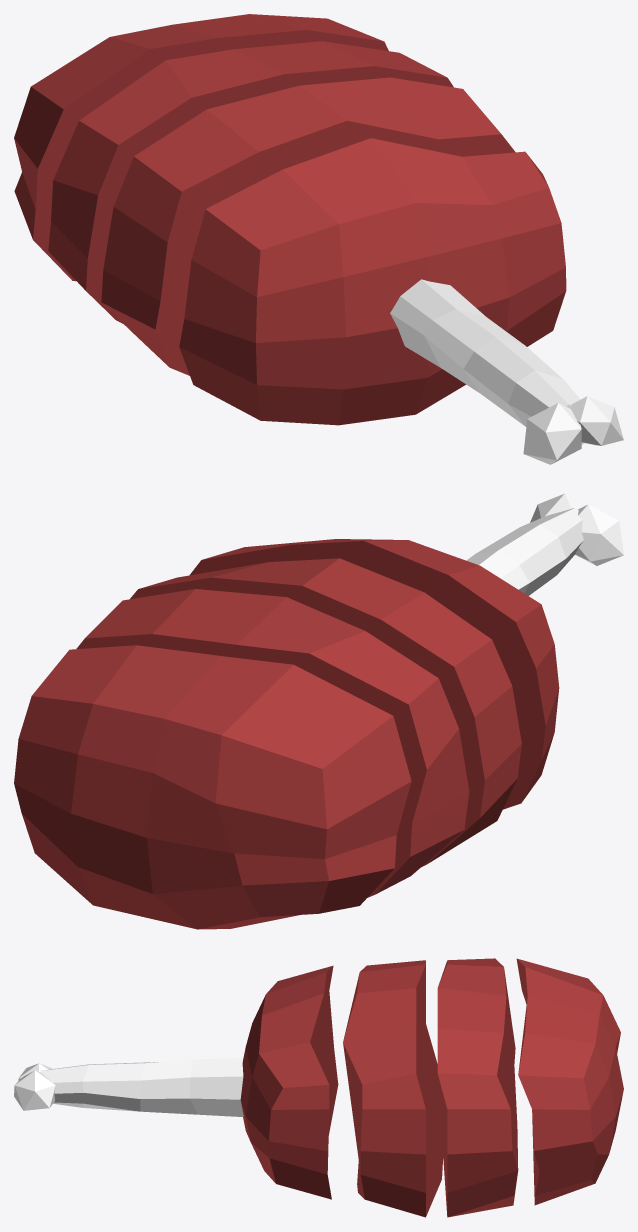
Rendered from goat_leg_chop_3.glb.
3 renders of one model, top to bottom at view 1: azimuth 30°, elevation 25°; view 2: azimuth 150°, elevation 25°; view 3: azimuth 270°, elevation 25°, orthographic. The views are drawn at different scales.
Parts seen in each view (by area): view 1: Meat, Meat.003, Meat.002, Meat.001, Icosphere; view 2: Meat.001, Meat.002, Meat.003, Meat, Icosphere; view 3: Meat.003, Meat.001, Meat.002, Meat, Icosphere.
Boxes of the visible parts, x1,y1,x2,y2 form: Meat: (179, 138, 566, 425); Meat.003: (101, 77, 515, 375); Meat.002: (48, 41, 453, 323); Meat.001: (14, 14, 388, 281); Icosphere: (390, 279, 623, 464); Meat.001: (14, 645, 411, 929); Meat.002: (76, 589, 469, 897); Meat.003: (130, 558, 521, 866); Meat: (190, 539, 559, 809); Icosphere: (466, 493, 623, 595); Meat.003: (343, 960, 443, 1217); Meat.001: (516, 958, 623, 1205); Meat.002: (437, 958, 518, 1217); Meat: (240, 965, 338, 1199); Icosphere: (14, 1058, 243, 1116).
Bounding box in the file's own units: 0.108 × 0.0753 × 0.2119.
